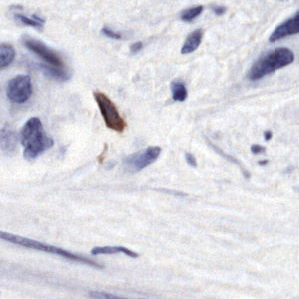Lymphocyte: (93, 90, 128, 134)
